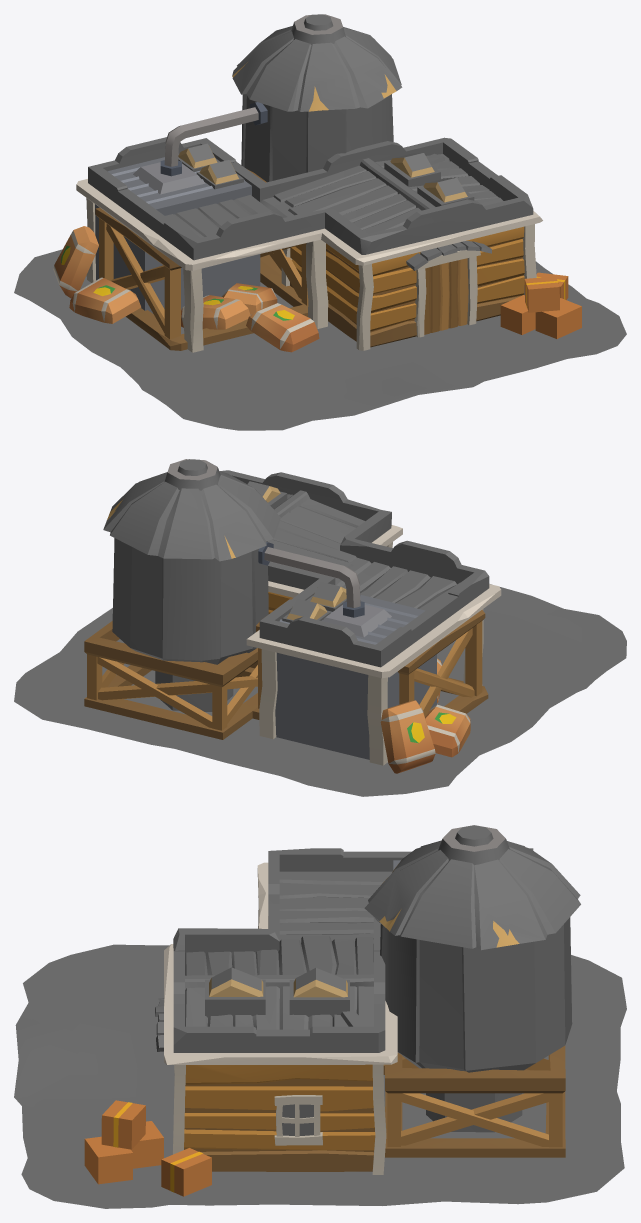
File: Build_Chemical01.FBX
The picture shows the model from 3 angles, top to bottom: view 1: azimuth 30°, elevation 25°; view 2: azimuth 150°, elevation 25°; view 3: azimuth 270°, elevation 25°; orthographic projection. The views are drawn at different scales.
Visible parts, largest first — view 1: Build_Chemical01, Build_Chemical01_Roof, Build_Chemical01_Warehouse, Build_Chemical01_Box01, Build_Chemical01_Box03, Build_Chemical01_Pipe, Build_Chemical01_Box02; view 2: Build_Chemical01, Build_Chemical01_Warehouse, Build_Chemical01_Roof, Build_Chemical01_Box01, Build_Chemical01_Pipe, Build_Chemical01_Box02, Build_Chemical01_Box03; view 3: Build_Chemical01, Build_Chemical01_Warehouse, Build_Chemical01_Roof, Build_Chemical01_Box03.
Boxes of the visible parts, x1,y1,x2,y2 form: Build_Chemical01: [14, 137, 626, 430]; Build_Chemical01_Roof: [232, 14, 402, 111]; Build_Chemical01_Warehouse: [241, 94, 393, 182]; Build_Chemical01_Box01: [95, 154, 260, 313]; Build_Chemical01_Box03: [384, 152, 474, 206]; Build_Chemical01_Pipe: [160, 102, 267, 176]; Build_Chemical01_Box02: [178, 143, 243, 189]; Build_Chemical01: [14, 470, 626, 796]; Build_Chemical01_Warehouse: [112, 538, 268, 711]; Build_Chemical01_Roof: [103, 459, 280, 561]; Build_Chemical01_Box01: [275, 594, 436, 759]; Build_Chemical01_Pipe: [258, 542, 364, 617]; Build_Chemical01_Box02: [282, 581, 346, 622]; Build_Chemical01_Box03: [247, 481, 287, 508]; Build_Chemical01: [14, 848, 626, 1208]; Build_Chemical01_Warehouse: [380, 917, 572, 1132]; Build_Chemical01_Roof: [364, 825, 580, 950]; Build_Chemical01_Box03: [205, 967, 349, 1017].
Size of the model in its own units: 852 by 427 by 833.
1 material, 1 textured.
